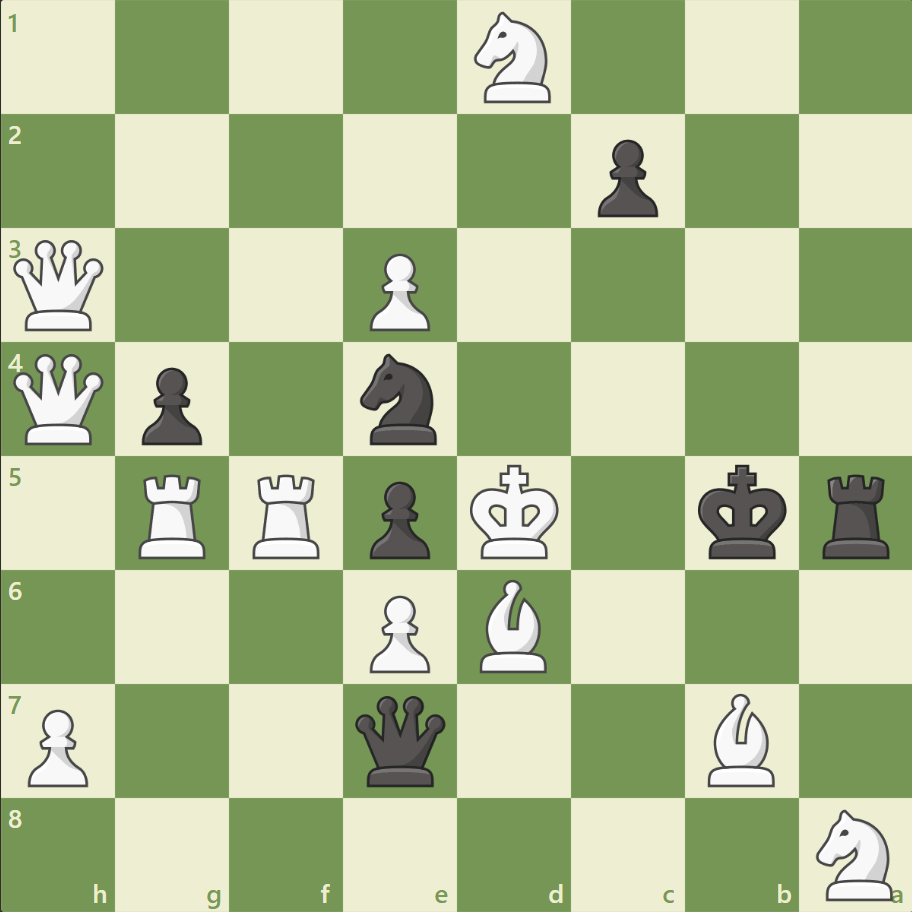B: (698, 687, 782, 790), (471, 574, 555, 676)
K: (465, 458, 565, 566)
N: (465, 7, 562, 110), (806, 802, 903, 904)
P: (20, 700, 95, 791), (361, 586, 435, 677), (361, 246, 435, 337)
Q: (10, 349, 109, 449), (10, 236, 109, 335)
R: (246, 466, 329, 563), (133, 466, 215, 563)
k: (692, 458, 792, 566)
n: (351, 348, 449, 450)
p: (133, 359, 208, 450), (361, 473, 435, 564), (588, 132, 662, 223)
q: (351, 690, 450, 789)
r: (814, 466, 897, 563)
